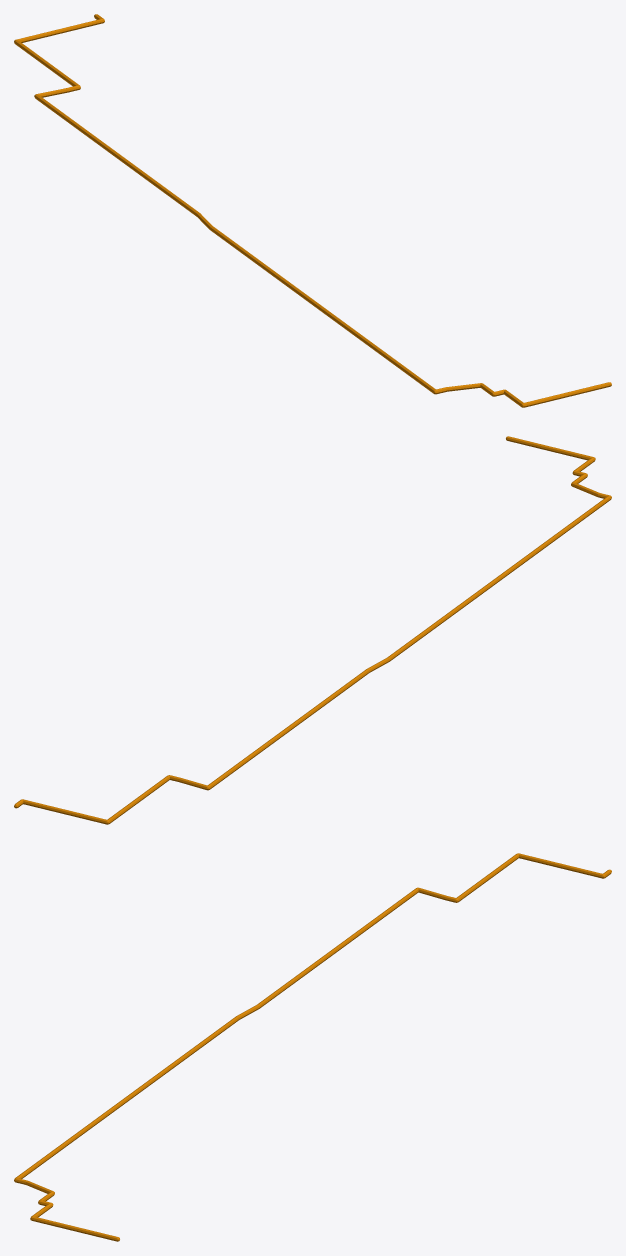
The picture shows the model from 3 angles, top to bottom: view 1: azimuth 30°, elevation 25°; view 2: azimuth 150°, elevation 25°; view 3: azimuth 330°, elevation 25°; orthographic projection.
Bounding box in the file's own units: 662 × 20 × 4081.
